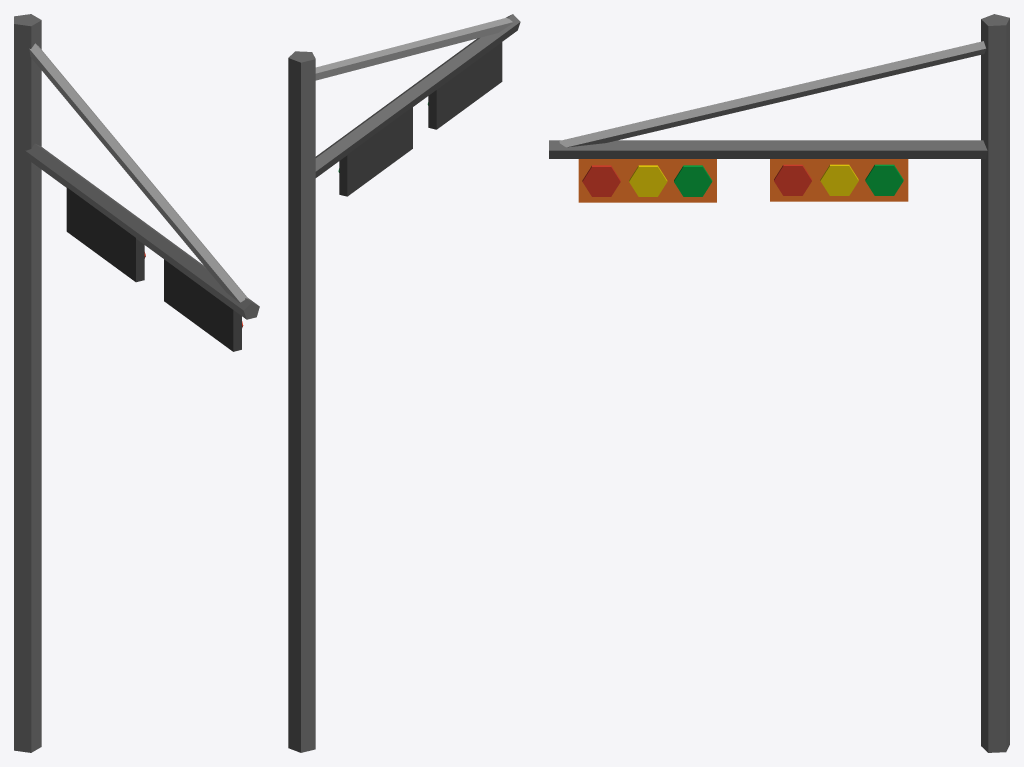
File: Traffic_Light_2.fbx
The picture shows the model from 3 angles, left to right: view 1: azimuth 30°, elevation 25°; view 2: azimuth 150°, elevation 25°; view 3: azimuth 270°, elevation 25°; orthographic projection. The views are drawn at different scales.
Visible parts, largest first — view 1: Traffic_Light_2; view 2: Traffic_Light_2; view 3: Traffic_Light_2.
Boxes of the visible parts, x1,y1,x2,y2 form: Traffic_Light_2: (14,14,259,752); Traffic_Light_2: (288,14,520,752); Traffic_Light_2: (549,14,1009,752).
Bounding box in the file's own units: 0.0843 × 2.37 × 1.36.
